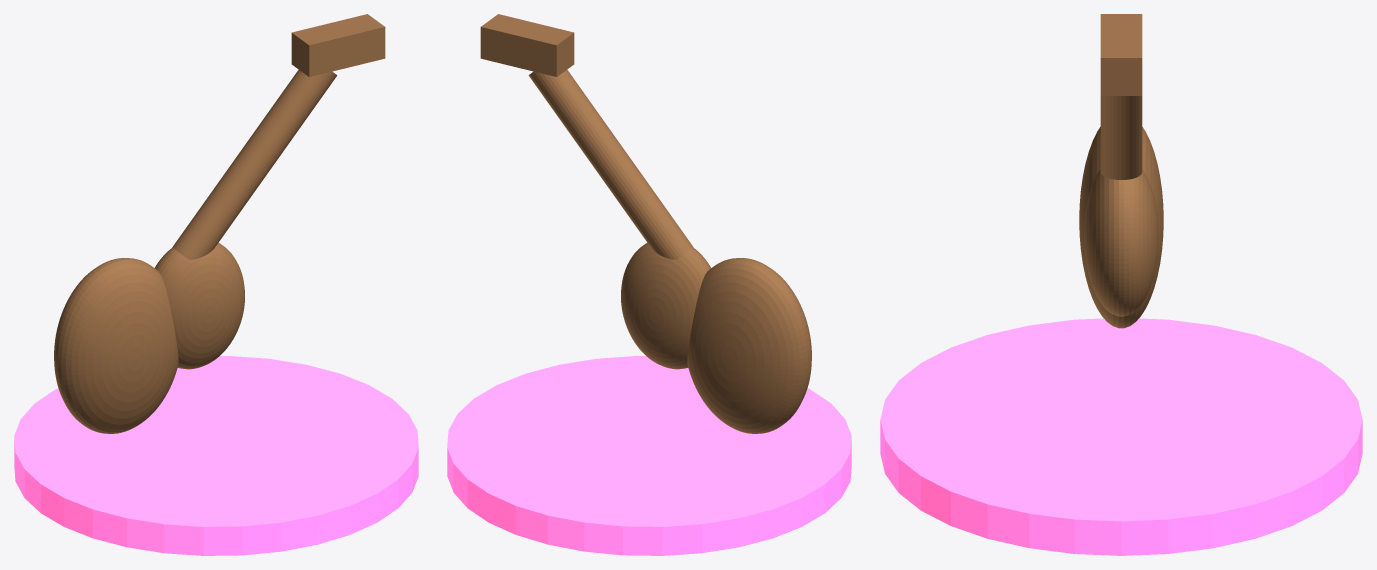
The model's file is music_acoustic_guitar.glb.
3 views of the same model, side by side, from view 1: azimuth 30°, elevation 25°; view 2: azimuth 150°, elevation 25°; view 3: azimuth 270°, elevation 25° (orthographic). The views are drawn at different scales.
Visible parts, largest first — view 1: 07_14_Popular_Music_Acoustic_Guitar_ROOT_base, 07_14_Popular_Music_Acoustic_Guitar_part_01, 07_14_Popular_Music_Acoustic_Guitar_part_03, 07_14_Popular_Music_Acoustic_Guitar_part_02, 07_14_Popular_Music_Acoustic_Guitar_part_04; view 2: 07_14_Popular_Music_Acoustic_Guitar_ROOT_base, 07_14_Popular_Music_Acoustic_Guitar_part_01, 07_14_Popular_Music_Acoustic_Guitar_part_03, 07_14_Popular_Music_Acoustic_Guitar_part_02, 07_14_Popular_Music_Acoustic_Guitar_part_04; view 3: 07_14_Popular_Music_Acoustic_Guitar_ROOT_base, 07_14_Popular_Music_Acoustic_Guitar_part_02, 07_14_Popular_Music_Acoustic_Guitar_part_03, 07_14_Popular_Music_Acoustic_Guitar_part_04, 07_14_Popular_Music_Acoustic_Guitar_part_01.
Boxes of the visible parts, left/top/right/bottom form: 07_14_Popular_Music_Acoustic_Guitar_ROOT_base: left=14, top=356, right=418, bottom=555; 07_14_Popular_Music_Acoustic_Guitar_part_01: left=54, top=258, right=178, bottom=433; 07_14_Popular_Music_Acoustic_Guitar_part_03: left=172, top=69, right=337, bottom=259; 07_14_Popular_Music_Acoustic_Guitar_part_02: left=155, top=242, right=244, bottom=369; 07_14_Popular_Music_Acoustic_Guitar_part_04: left=291, top=14, right=385, bottom=76; 07_14_Popular_Music_Acoustic_Guitar_ROOT_base: left=447, top=356, right=851, bottom=555; 07_14_Popular_Music_Acoustic_Guitar_part_01: left=687, top=258, right=811, bottom=433; 07_14_Popular_Music_Acoustic_Guitar_part_03: left=528, top=69, right=693, bottom=259; 07_14_Popular_Music_Acoustic_Guitar_part_02: left=621, top=242, right=710, bottom=369; 07_14_Popular_Music_Acoustic_Guitar_part_04: left=480, top=14, right=574, bottom=76; 07_14_Popular_Music_Acoustic_Guitar_ROOT_base: left=880, top=318, right=1362, bottom=555; 07_14_Popular_Music_Acoustic_Guitar_part_02: left=1084, top=169, right=1158, bottom=316; 07_14_Popular_Music_Acoustic_Guitar_part_03: left=1100, top=96, right=1142, bottom=179; 07_14_Popular_Music_Acoustic_Guitar_part_04: left=1100, top=14, right=1142, bottom=95; 07_14_Popular_Music_Acoustic_Guitar_part_01: left=1079, top=127, right=1163, bottom=328.
Size of the model in its own units: 0.76 by 0.85 by 0.76.
